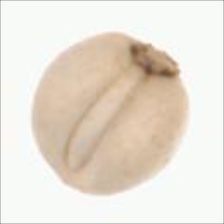L5: (60, 62, 150, 180), (125, 38, 182, 80), (48, 154, 92, 195)
L6: (28, 29, 196, 201)
